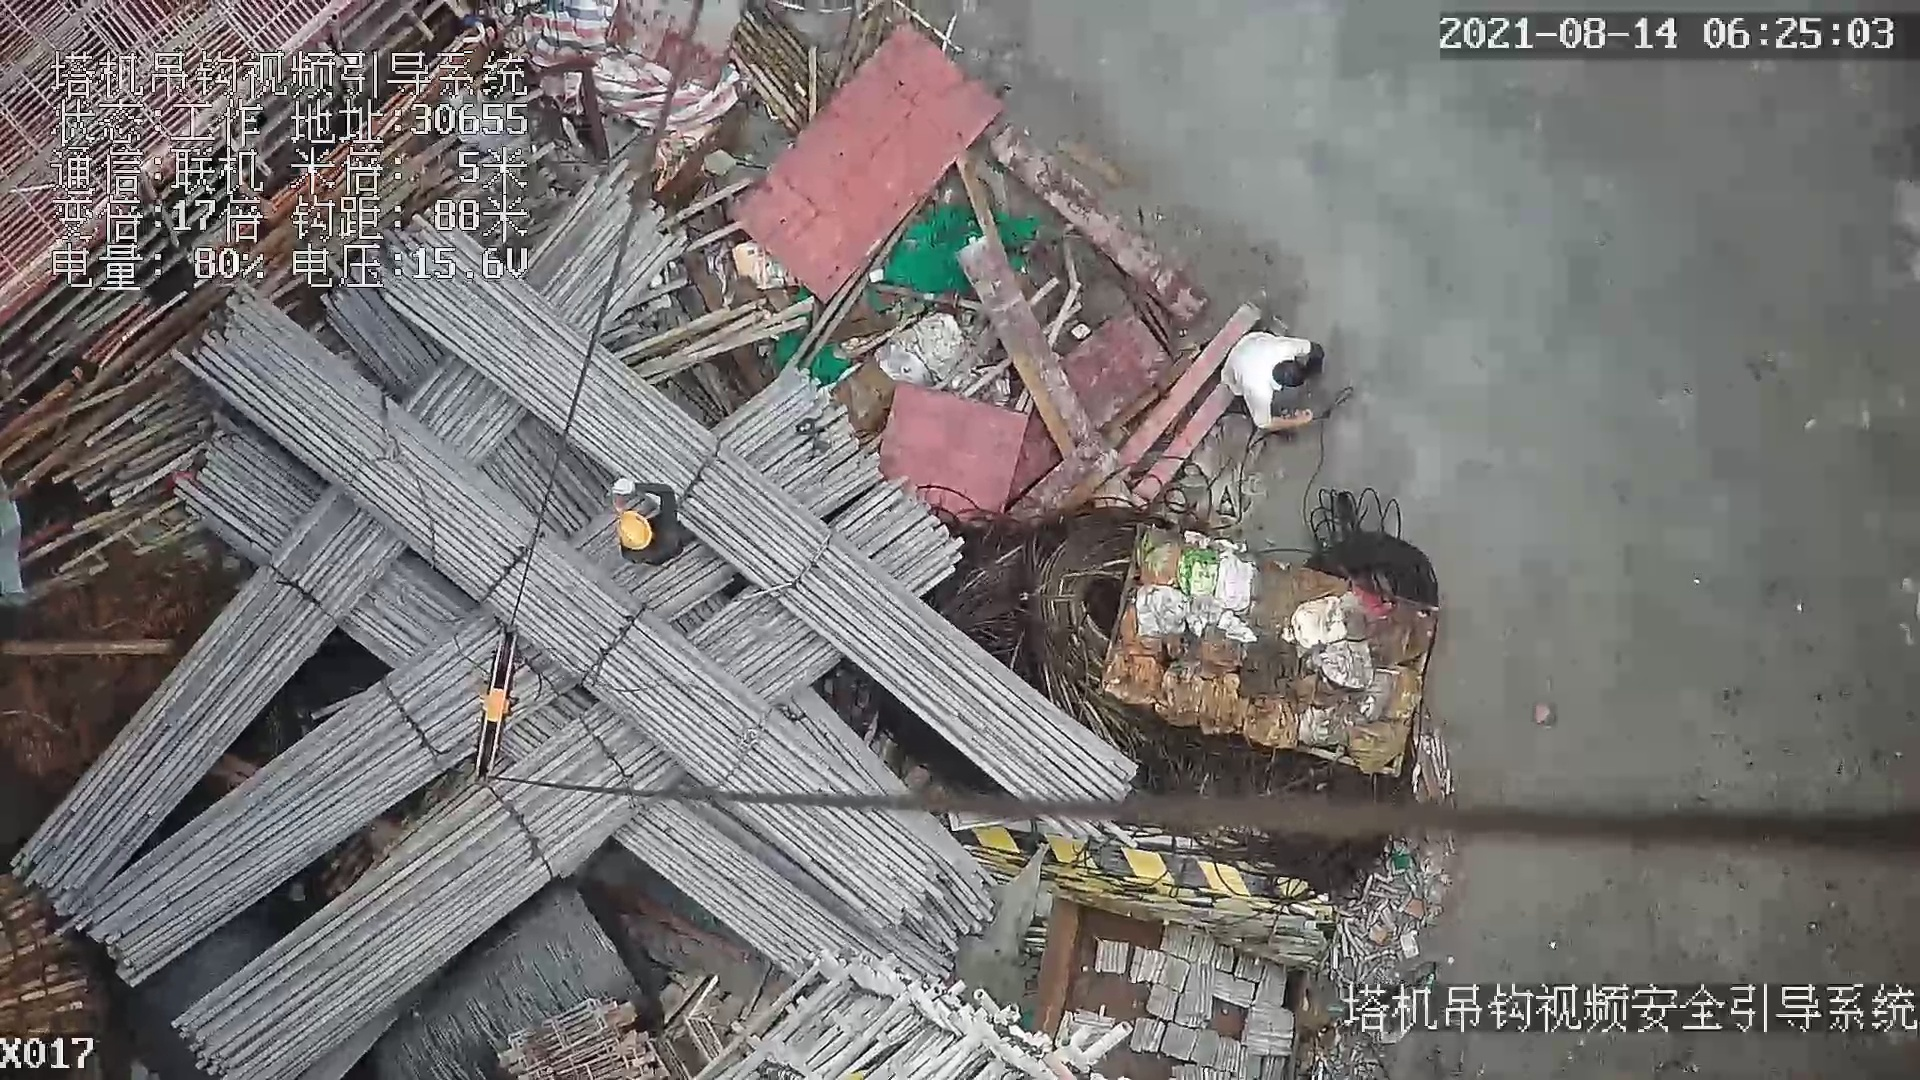helmet: (615, 509, 653, 551)
hook: (470, 619, 515, 782)
person: (1229, 326, 1328, 441), (614, 476, 697, 564)
